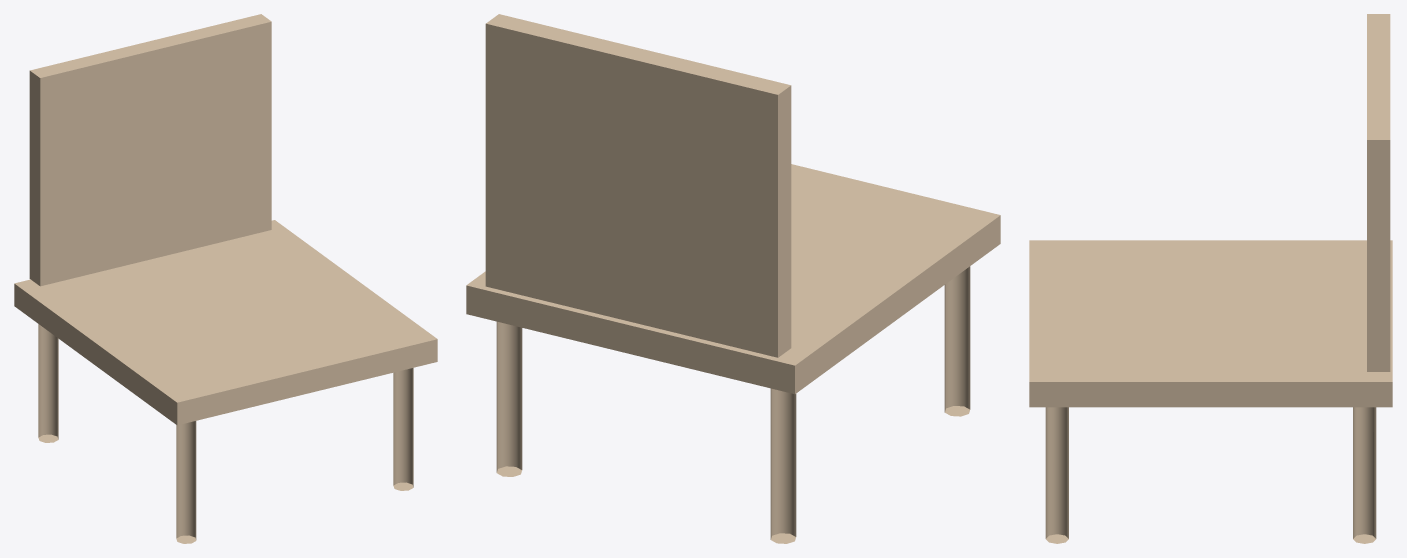
The model's file is lounge_chair_01.glb.
The picture shows the model from 3 angles, left to right: view 1: azimuth 30°, elevation 25°; view 2: azimuth 150°, elevation 25°; view 3: azimuth 270°, elevation 25°; orthographic projection. The views are drawn at different scales.
Bounding box in the file's own units: 0.72 × 0.955 × 0.78.
